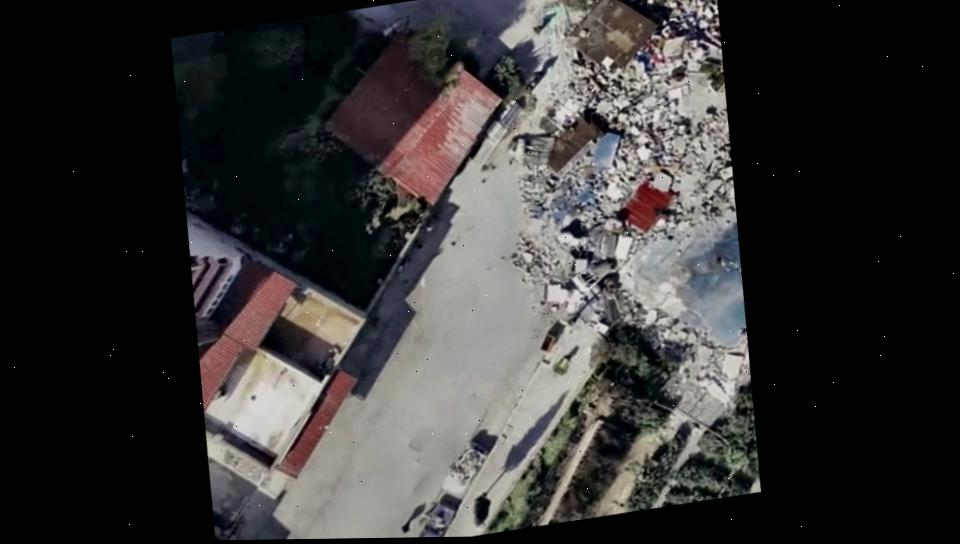kapali: (399, 0, 724, 359)
